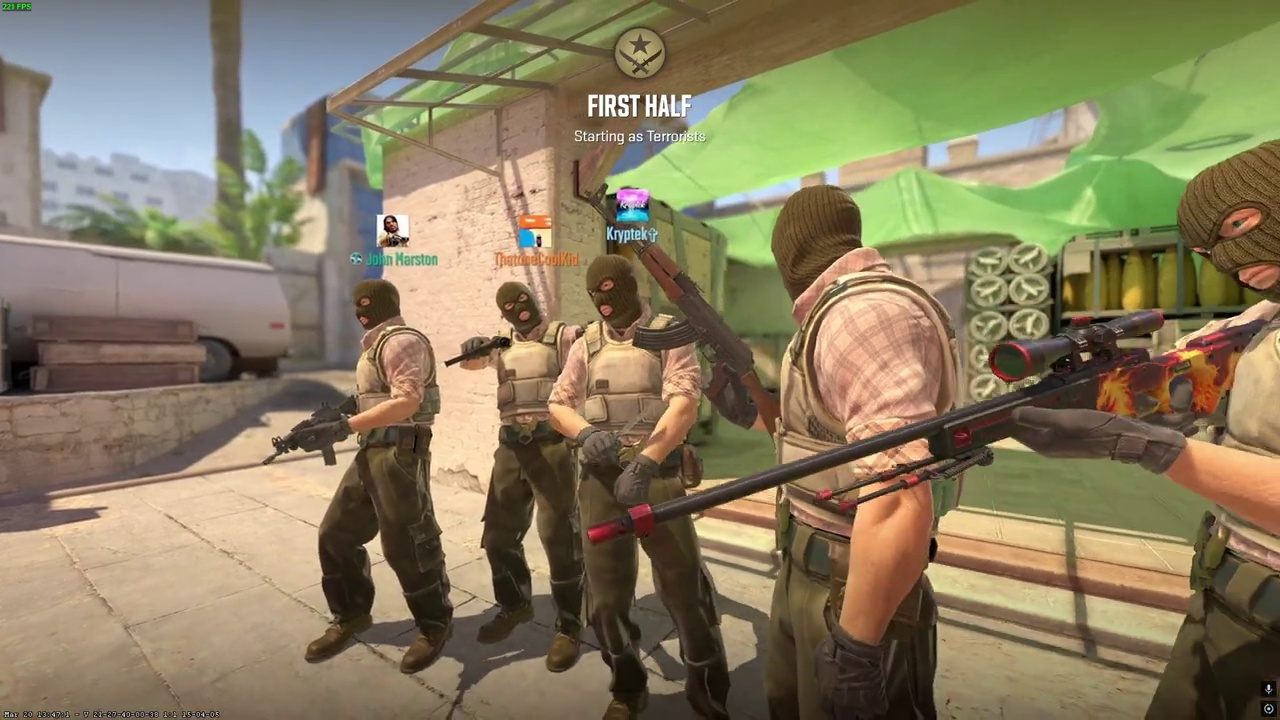Terrorist: (746, 184, 969, 719), (1118, 136, 1280, 720), (556, 252, 730, 720), (289, 280, 464, 673), (460, 282, 585, 677)
